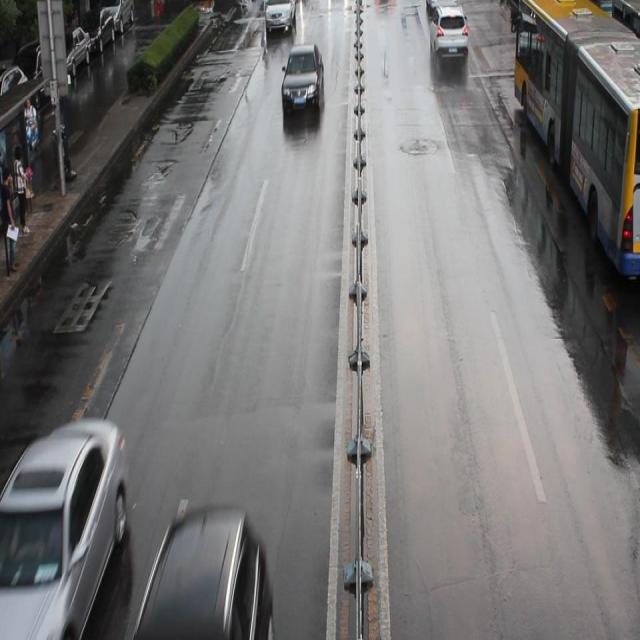car: (1, 417, 129, 640), (137, 507, 269, 640), (280, 46, 323, 122), (428, 9, 468, 59), (264, 1, 296, 38)
van: (513, 1, 640, 278)
